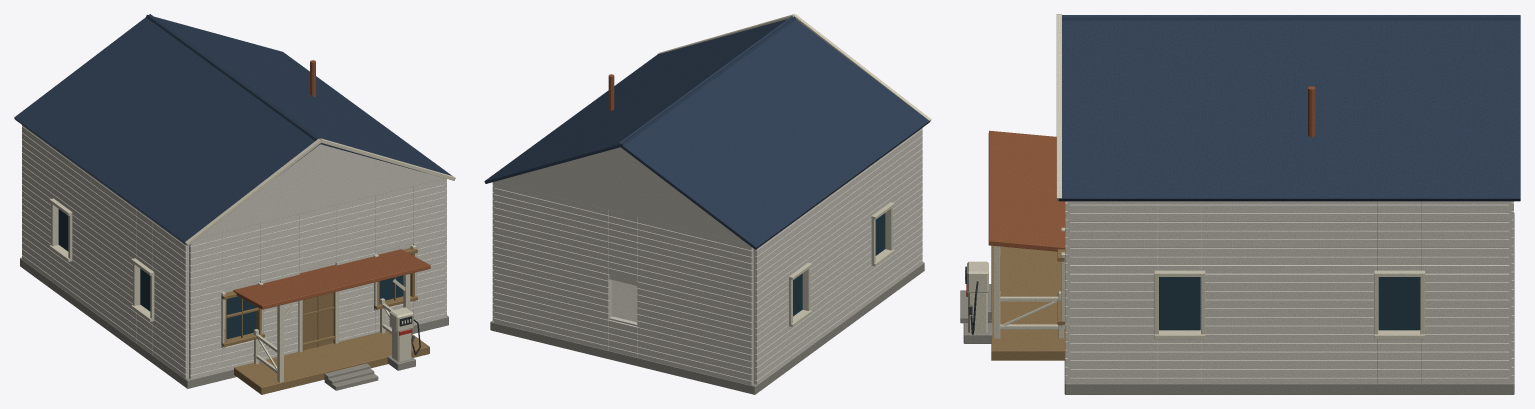
File: RUSTICB2_lod1.glb
3 views of the same model, side by side, from view 1: azimuth 30°, elevation 25°; view 2: azimuth 150°, elevation 25°; view 3: azimuth 270°, elevation 25° (orthographic). The views are drawn at different scales.
Parts seen in each view (by area): view 1: RUSTICB2_LOD1; view 2: RUSTICB2_LOD1; view 3: RUSTICB2_LOD1.
Part boxes in pixels (left/top/right/bottom): RUSTICB2_LOD1: left=14, top=14, right=455, bottom=394; RUSTICB2_LOD1: left=484, top=14, right=931, bottom=394; RUSTICB2_LOD1: left=960, top=14, right=1520, bottom=394.
Bounding box in the file's own units: 9.51 × 7.42 × 12.76.
Materials: 13 (11 with a texture image).
